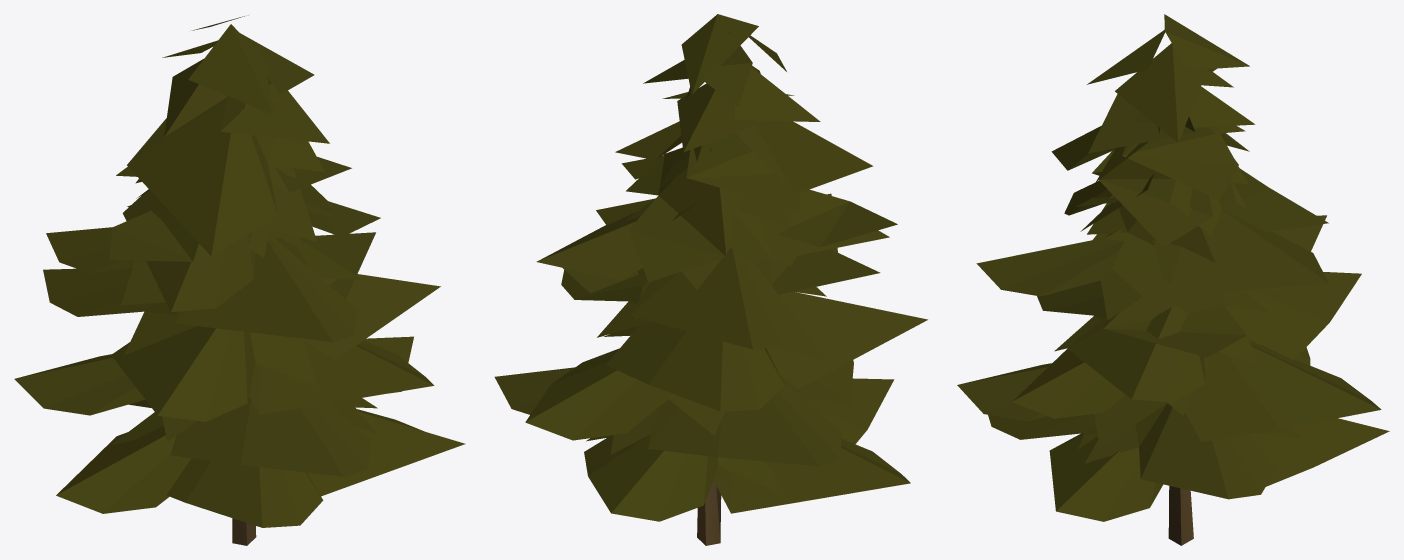
File: sf_pine_1_lod.glb
3 views of the same model, side by side, from view 1: azimuth 30°, elevation 25°; view 2: azimuth 150°, elevation 25°; view 3: azimuth 270°, elevation 25° (orthographic). The views are drawn at different scales.
Parts seen in each view (by area): view 1: Leaves/001_Leavs_0; view 2: Leaves/001_Leavs_0; view 3: Leaves/001_Leavs_0.
Boxes of the visible parts, left/top/right/bottom form: Leaves/001_Leavs_0: left=14, top=15, right=465, bottom=545; Leaves/001_Leavs_0: left=494, top=14, right=927, bottom=545; Leaves/001_Leavs_0: left=957, top=14, right=1389, bottom=545.
Bounding box in the file's own units: 7.05 × 9.15 × 7.05.
